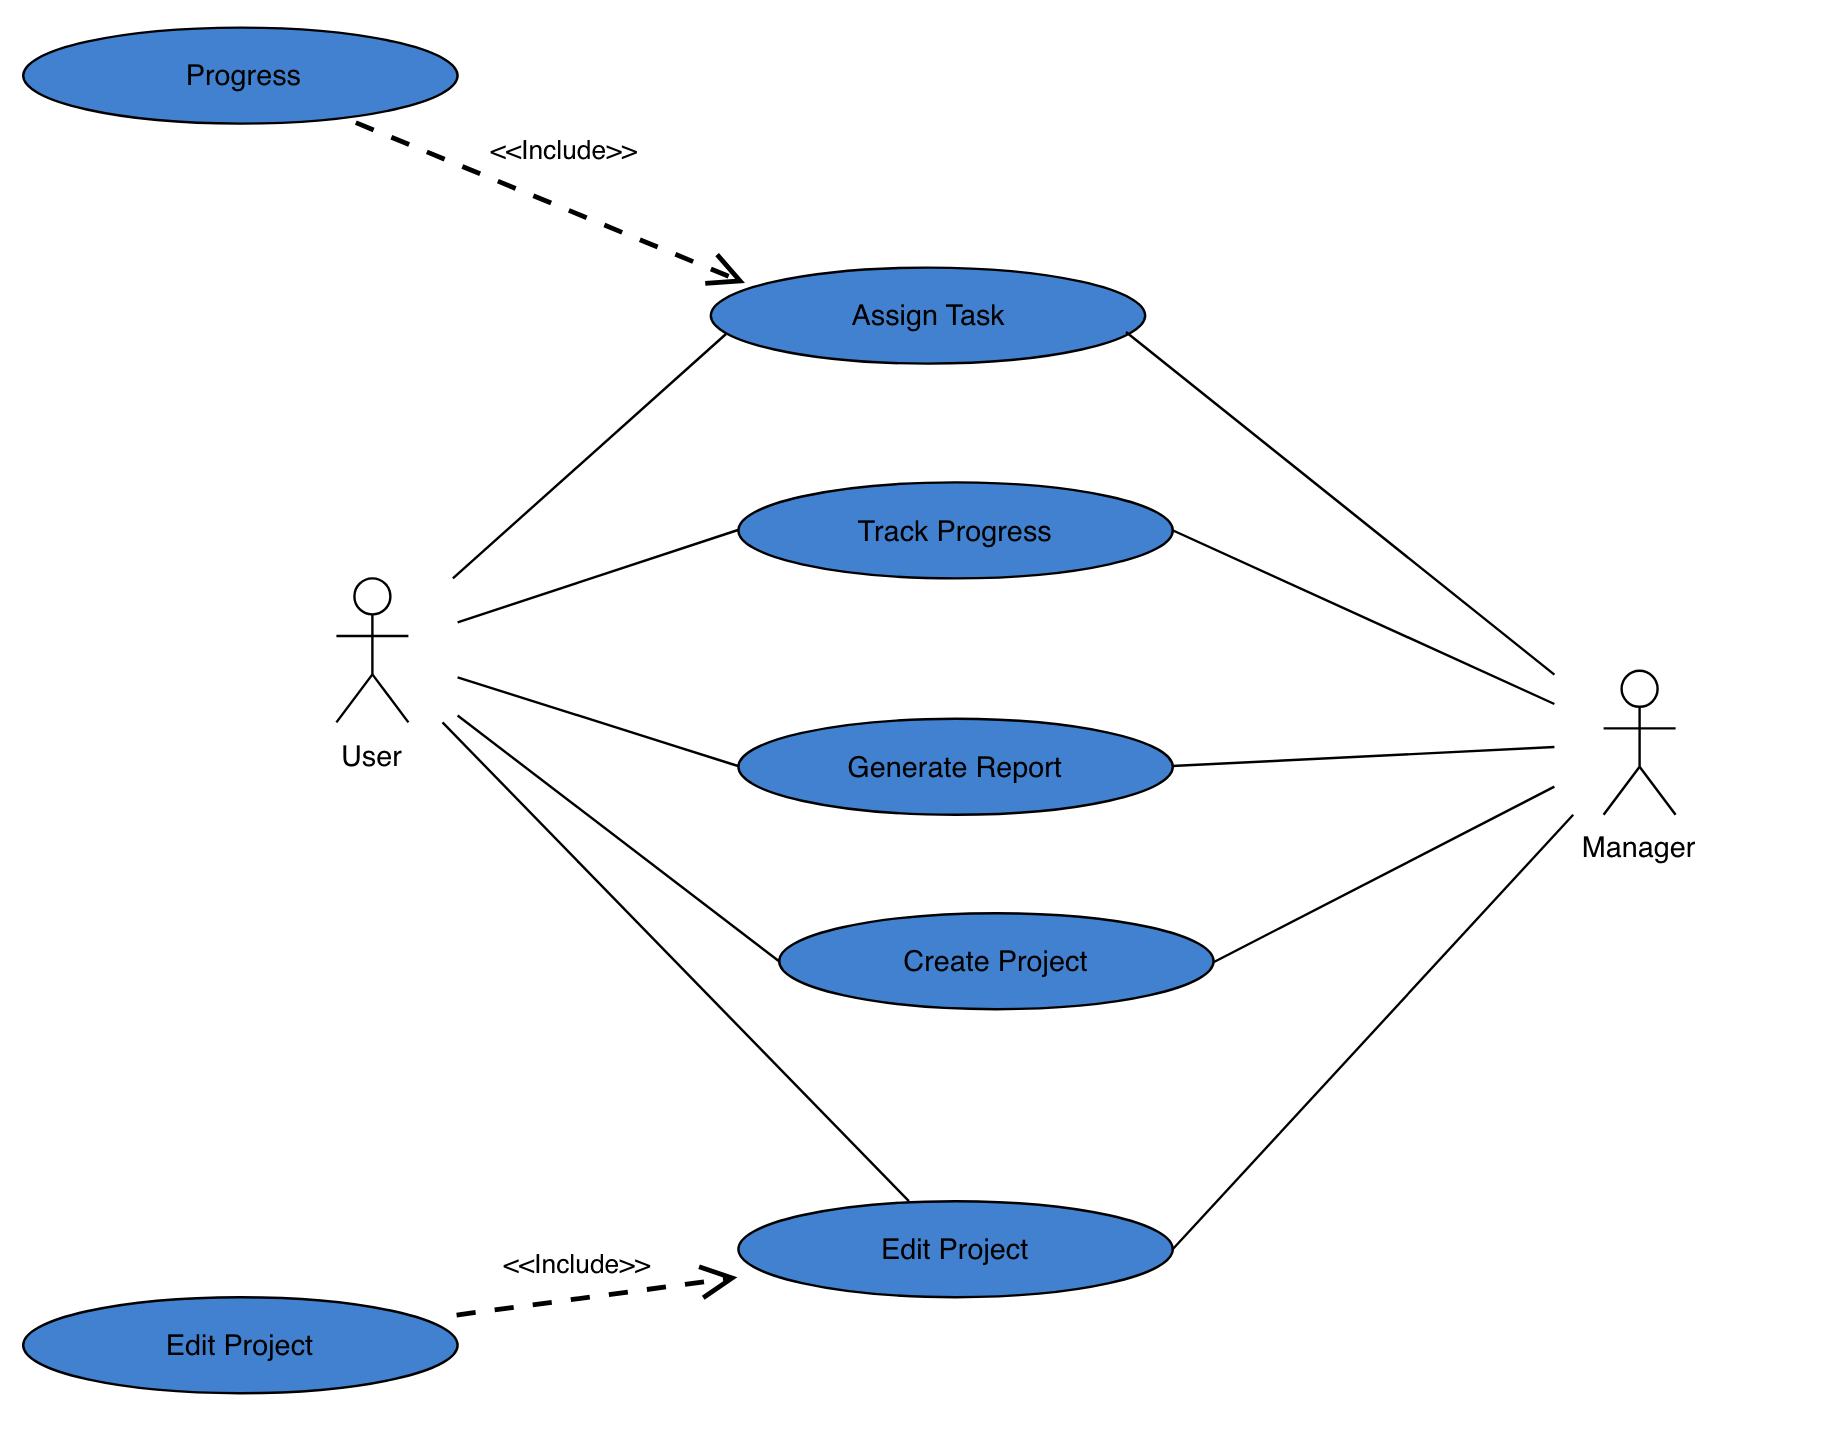actor: (1600, 666, 1689, 826), (330, 573, 411, 731)
association: (441, 723, 913, 1198), (1175, 812, 1576, 1255), (1134, 331, 1563, 676), (459, 712, 778, 959), (1172, 523, 1560, 708), (450, 331, 727, 580), (355, 115, 746, 289), (1218, 779, 1558, 967), (454, 525, 736, 622), (457, 673, 736, 766), (1172, 733, 1555, 782), (456, 1259, 737, 1319)
text: (839, 742, 1080, 788), (847, 507, 1068, 555), (887, 940, 1112, 986), (844, 286, 1026, 342), (874, 1222, 1041, 1276), (153, 1321, 328, 1369), (177, 58, 334, 109), (503, 1234, 656, 1283), (482, 124, 647, 169), (1575, 829, 1701, 866), (327, 737, 423, 779)
use_case: (18, 21, 463, 130), (19, 1291, 464, 1399), (734, 715, 1181, 821), (733, 1196, 1178, 1303), (775, 908, 1223, 1013), (736, 477, 1176, 583), (707, 264, 1149, 367)
